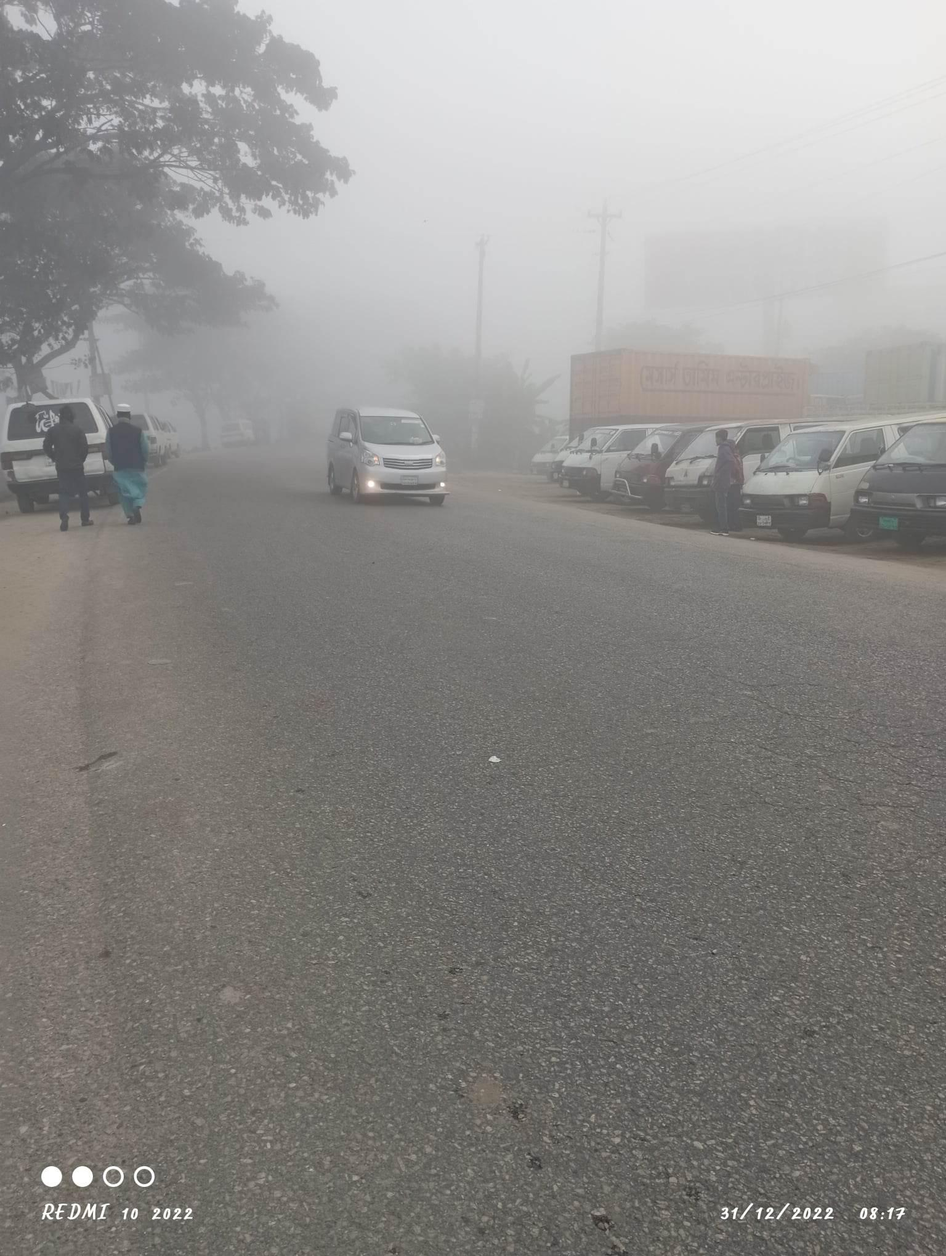Car: (729, 413, 939, 540), (319, 371, 462, 542), (1, 374, 142, 509)
Truck: (567, 337, 860, 459)
